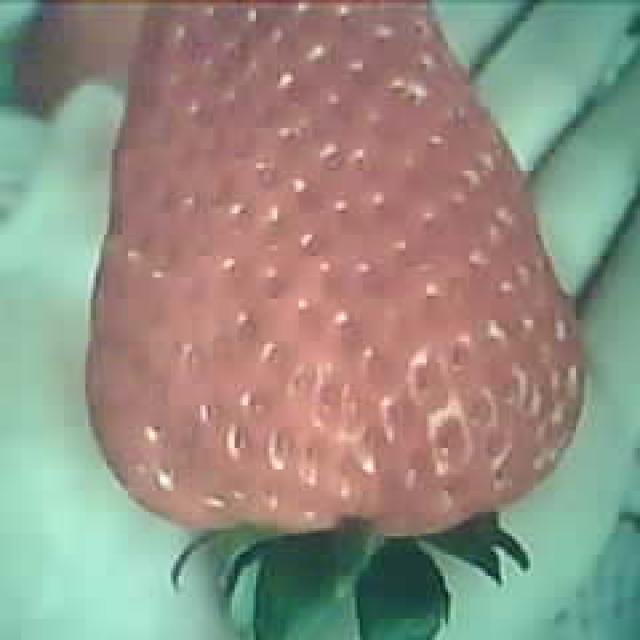ripe: (93, 4, 584, 520)
